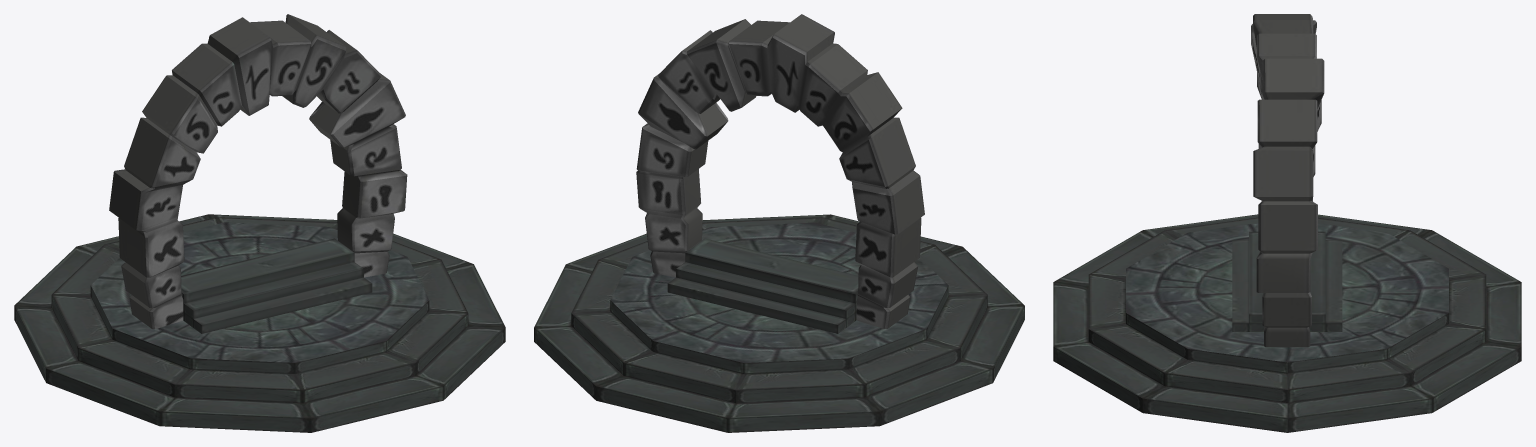
The model's file is PortalOff.obj.
3 views of the same model, side by side, from view 1: azimuth 30°, elevation 25°; view 2: azimuth 150°, elevation 25°; view 3: azimuth 270°, elevation 25° (orthographic).
Bounding box in the file's own units: 50.71 × 34.75 × 48.23.
